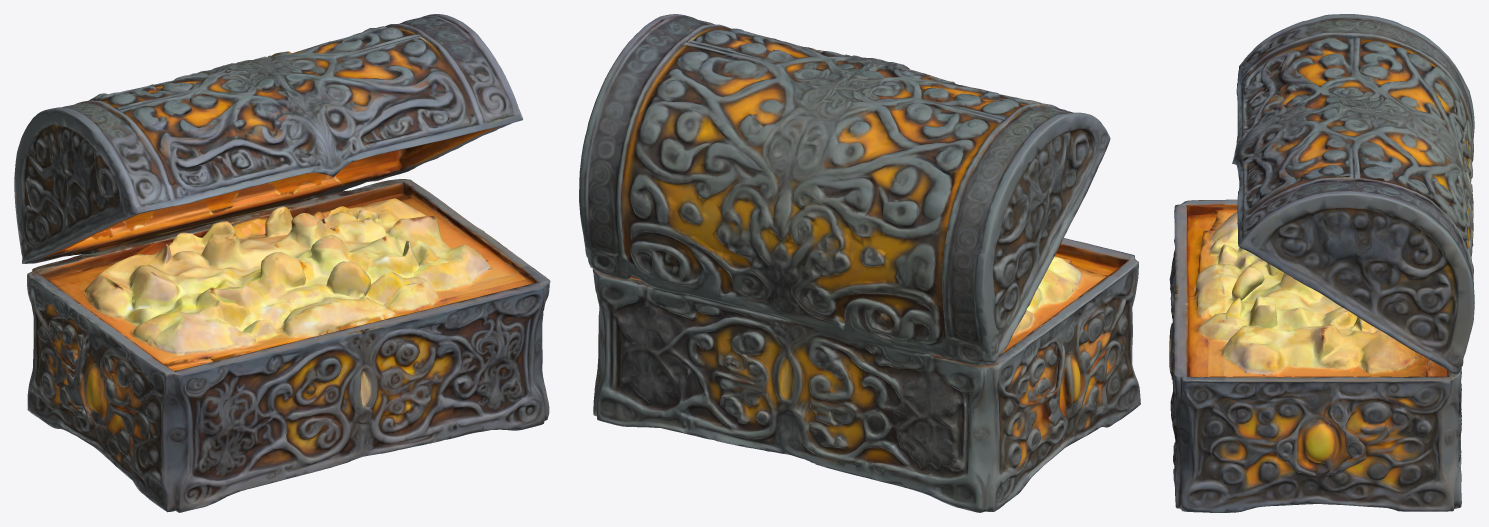
The model's file is Meshy_AI_chest_that_is_mystica_1115233045_texture.glb.
The picture shows the model from 3 angles, left to right: view 1: azimuth 30°, elevation 25°; view 2: azimuth 150°, elevation 25°; view 3: azimuth 270°, elevation 25°; orthographic projection. The views are drawn at different scales.
Bounding box in the file's own units: 2 × 1.59 × 1.37.
Materials: 1 (1 with a texture image).
